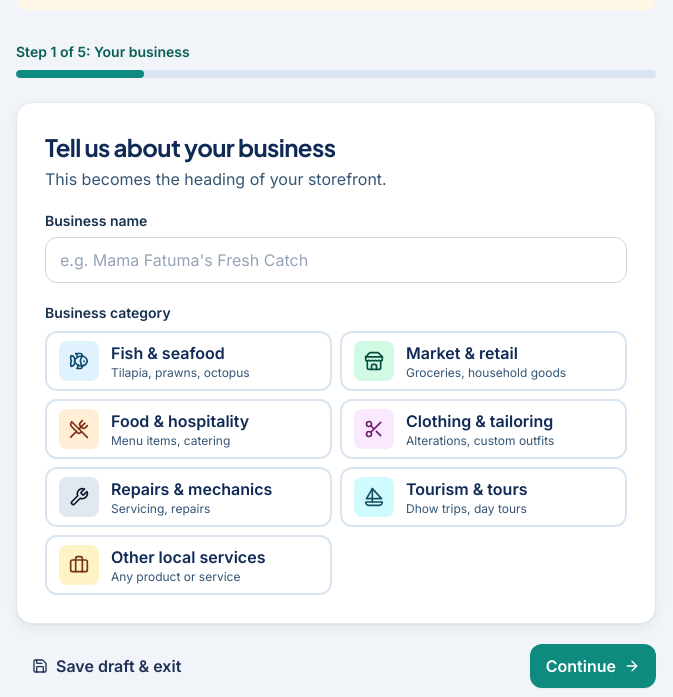
Scenario: owner flows › blocks onboarding progress until required fields are valid
(page scrolled)
Click the button "Continue" at (593, 666), box [530, 644, 656, 688]
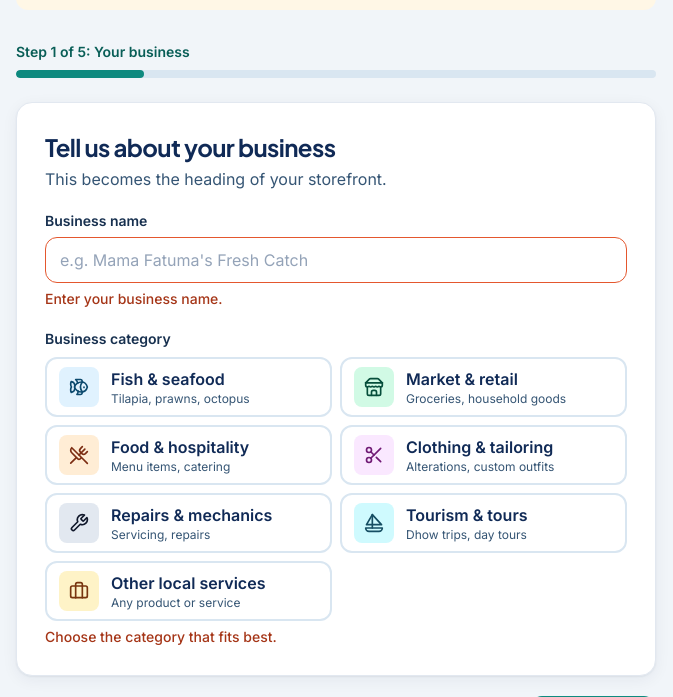
Expected: the heading "Tell us about your business" is shown, [45, 132, 335, 162]
Result: the text "Enter your business name." is shown at [45, 290, 223, 307]
